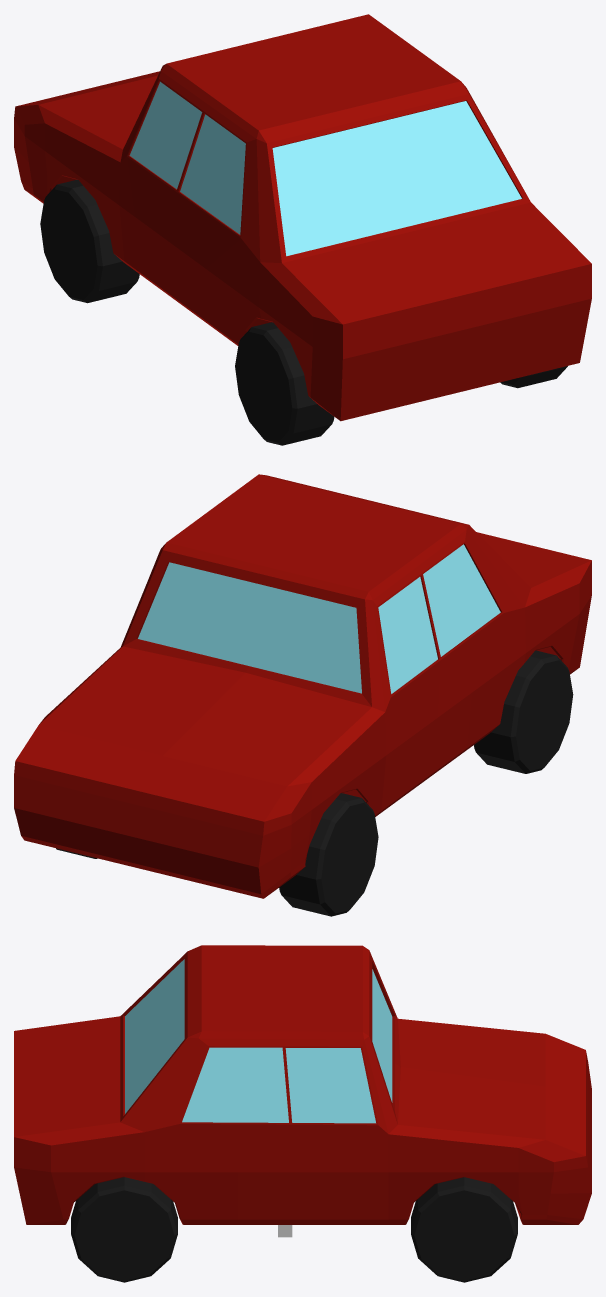
File: car_red_01.fbx
The picture shows the model from 3 angles, top to bottom: view 1: azimuth 30°, elevation 25°; view 2: azimuth 150°, elevation 25°; view 3: azimuth 270°, elevation 25°; orthographic projection. The views are drawn at different scales.
Parts seen in each view (by area): view 1: Car; view 2: Car; view 3: Car.
Part boxes in pixels (box(x1,y1,x2,y2)): Car: box(14, 14, 591, 445); Car: box(14, 474, 591, 916); Car: box(14, 945, 591, 1282).
Size of the model in its own units: 316 by 302 by 645.
